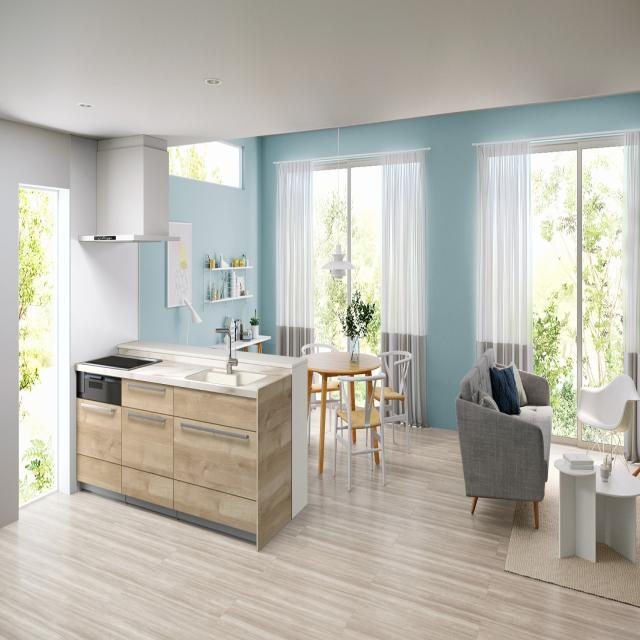modern chair: (334, 373, 390, 495)
modern desk: (306, 351, 382, 478)
modern shelf: (203, 249, 270, 349)
modern sofa: (452, 344, 552, 534)
